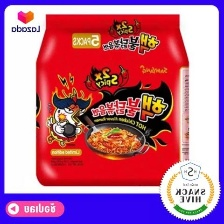snack: (26, 8, 196, 192)
